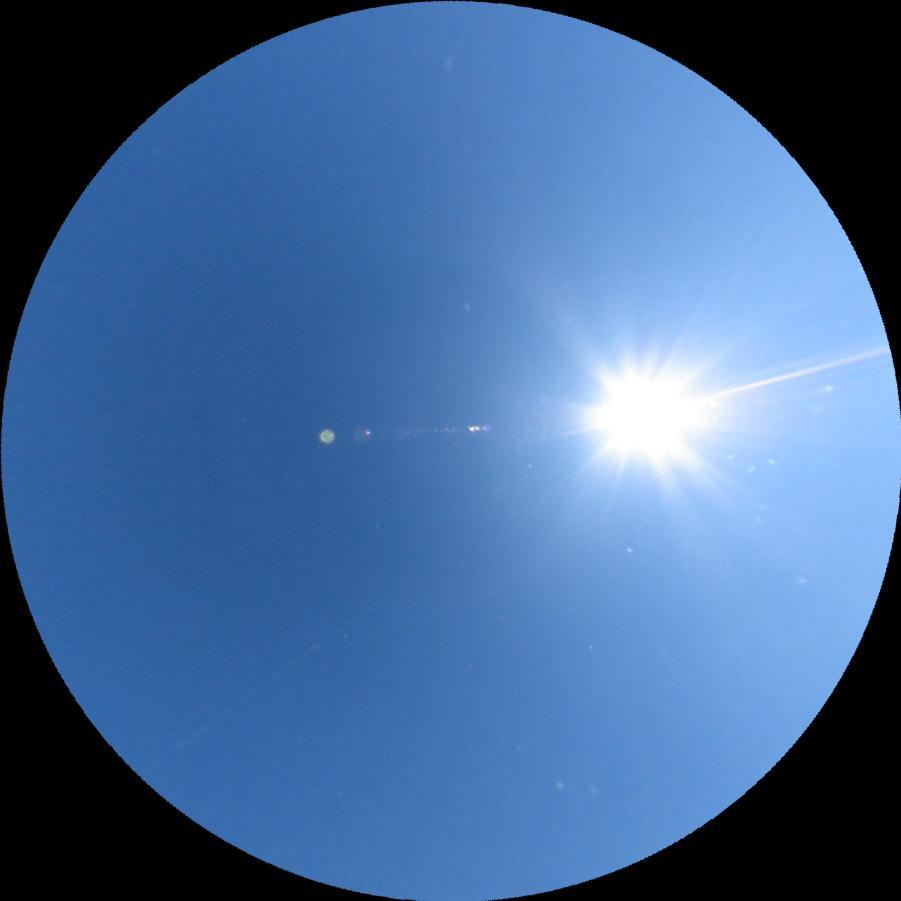parasite: (180, 607, 365, 743), (695, 344, 891, 405)
sun: (585, 360, 704, 465)
